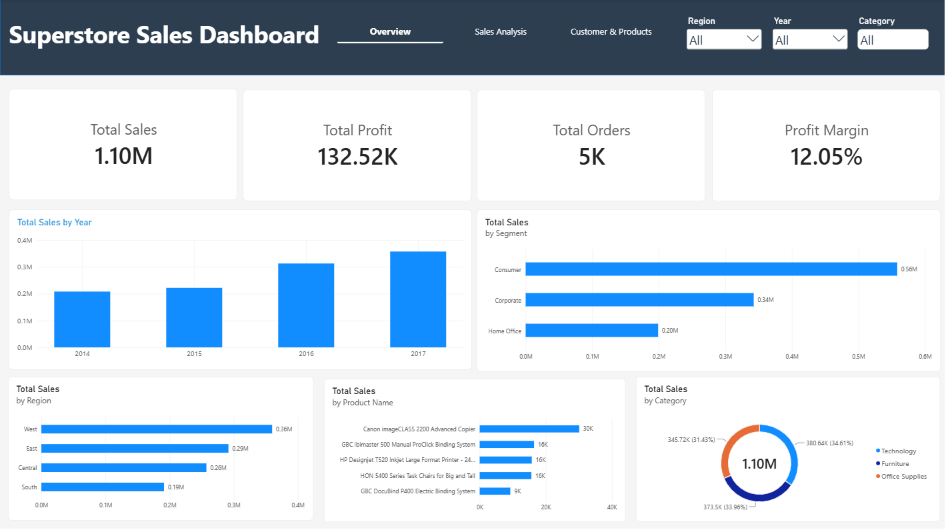

The dashboard page shown, as its layout file describes it:
{"tool":"powerbi","page":{"name":"Overview","canvas":[1920,1080],"ordinal":0},"visuals":[{"type":"cardVisual","fields":{"Data":["FactSales.Total Sales"]},"box":[17.9,183.2,463.9,227],"z":0},{"type":"cardVisual","fields":{"Data":["FactSales.Total Profit"]},"box":[493.1,185.2,463.9,227],"z":1000},{"type":"cardVisual","fields":{"Data":["FactSales.Total Orders"]},"box":[967.6,185.2,463.9,227],"z":2000},{"type":"cardVisual","fields":{"Data":["FactSales.Profit Margin"]},"box":[1443.5,185.2,463.9,227],"z":3000},{"type":"shape","box":[0,0,1919.3,155.3],"z":4000},{"type":"textbox","box":[17.5,38,665.5,77.2],"z":5000},{"type":"slicer","fields":{"Values":["DimDate.Year"]},"box":[1560.6,33.9,162.1,82.9],"z":6000},{"type":"slicer","fields":{"Values":["DimCustomer.Region"]},"box":[1387.2,33.9,162.1,82.9],"z":7000},{"type":"slicer","fields":{"Values":["DimProduct.Category"]},"box":[1734,33.9,154.6,86.7],"z":8000},{"type":"clusteredColumnChart","fields":{"Category":["DimDate.Date.Variation.Date Hierarchy.Year","DimDate.Date.Variation.Date Hierarchy.Quarter","DimDate.Date.Variation.Date Hierarchy.Month","DimDate.Date.Variation.Date Hierarchy.Day"],"Y":["FactSales.Total Sales"]},"box":[17.9,428.1,937.8,324.5],"z":9000},{"type":"clusteredBarChart","fields":{"Category":["DimCustomer.Region"],"Y":["FactSales.Total Sales"]},"box":[17,767.4,619.2,291.4],"z":10000},{"type":"clusteredBarChart","fields":{"Category":["DimProduct.Product Name"],"Y":["FactSales.Total Sales"]},"box":[657,770.5,611.2,290.7],"z":11000},{"type":"donutChart","fields":{"Category":["DimProduct.Category"],"Y":["FactSales.Total Sales"]},"box":[1289.4,767.4,616.8,293.8],"z":12000},{"type":"clusteredBarChart","fields":{"Category":["DimCustomer.Segment"],"Y":["FactSales.Total Sales"]},"box":[967.6,428.1,939.8,328.5],"z":13000},{"type":"pageNavigator","box":[683.2,42.5,666.1,48.2],"z":14000}]}

Visuals, with their boxes in screenshot pixels (x1, y1, x2, y2), scaled from the page's 1920x1080 canvas onto the 945x529 screenshot:
cardVisual - FactSales.Total Sales: x1=9, y1=90, x2=237, y2=201
cardVisual - FactSales.Total Profit: x1=243, y1=91, x2=471, y2=202
cardVisual - FactSales.Total Orders: x1=476, y1=91, x2=705, y2=202
cardVisual - FactSales.Profit Margin: x1=710, y1=91, x2=939, y2=202
shape: x1=0, y1=0, x2=944, y2=76
textbox: x1=9, y1=19, x2=336, y2=56
slicer - DimDate.Year: x1=768, y1=17, x2=848, y2=57
slicer - DimCustomer.Region: x1=683, y1=17, x2=763, y2=57
slicer - DimProduct.Category: x1=853, y1=17, x2=930, y2=59
clusteredColumnChart - DimDate.Date.Variation.Date Hierarchy.Year x DimDate.Date.Variation.Date Hierarchy.Quarter: x1=9, y1=210, x2=470, y2=369
clusteredBarChart - DimCustomer.Region x FactSales.Total Sales: x1=8, y1=376, x2=313, y2=519
clusteredBarChart - DimProduct.Product Name x FactSales.Total Sales: x1=323, y1=377, x2=624, y2=520
donutChart - DimProduct.Category x FactSales.Total Sales: x1=635, y1=376, x2=938, y2=520
clusteredBarChart - DimCustomer.Segment x FactSales.Total Sales: x1=476, y1=210, x2=939, y2=371
pageNavigator: x1=336, y1=21, x2=664, y2=44
